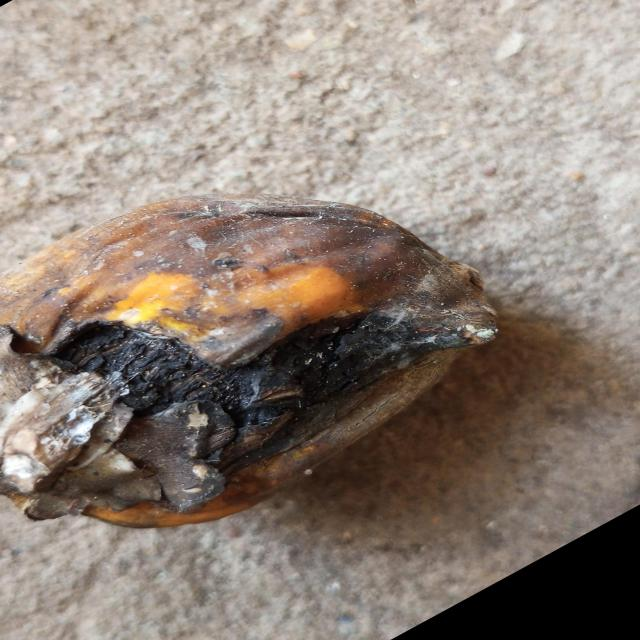damaged: (0, 195, 500, 532)
